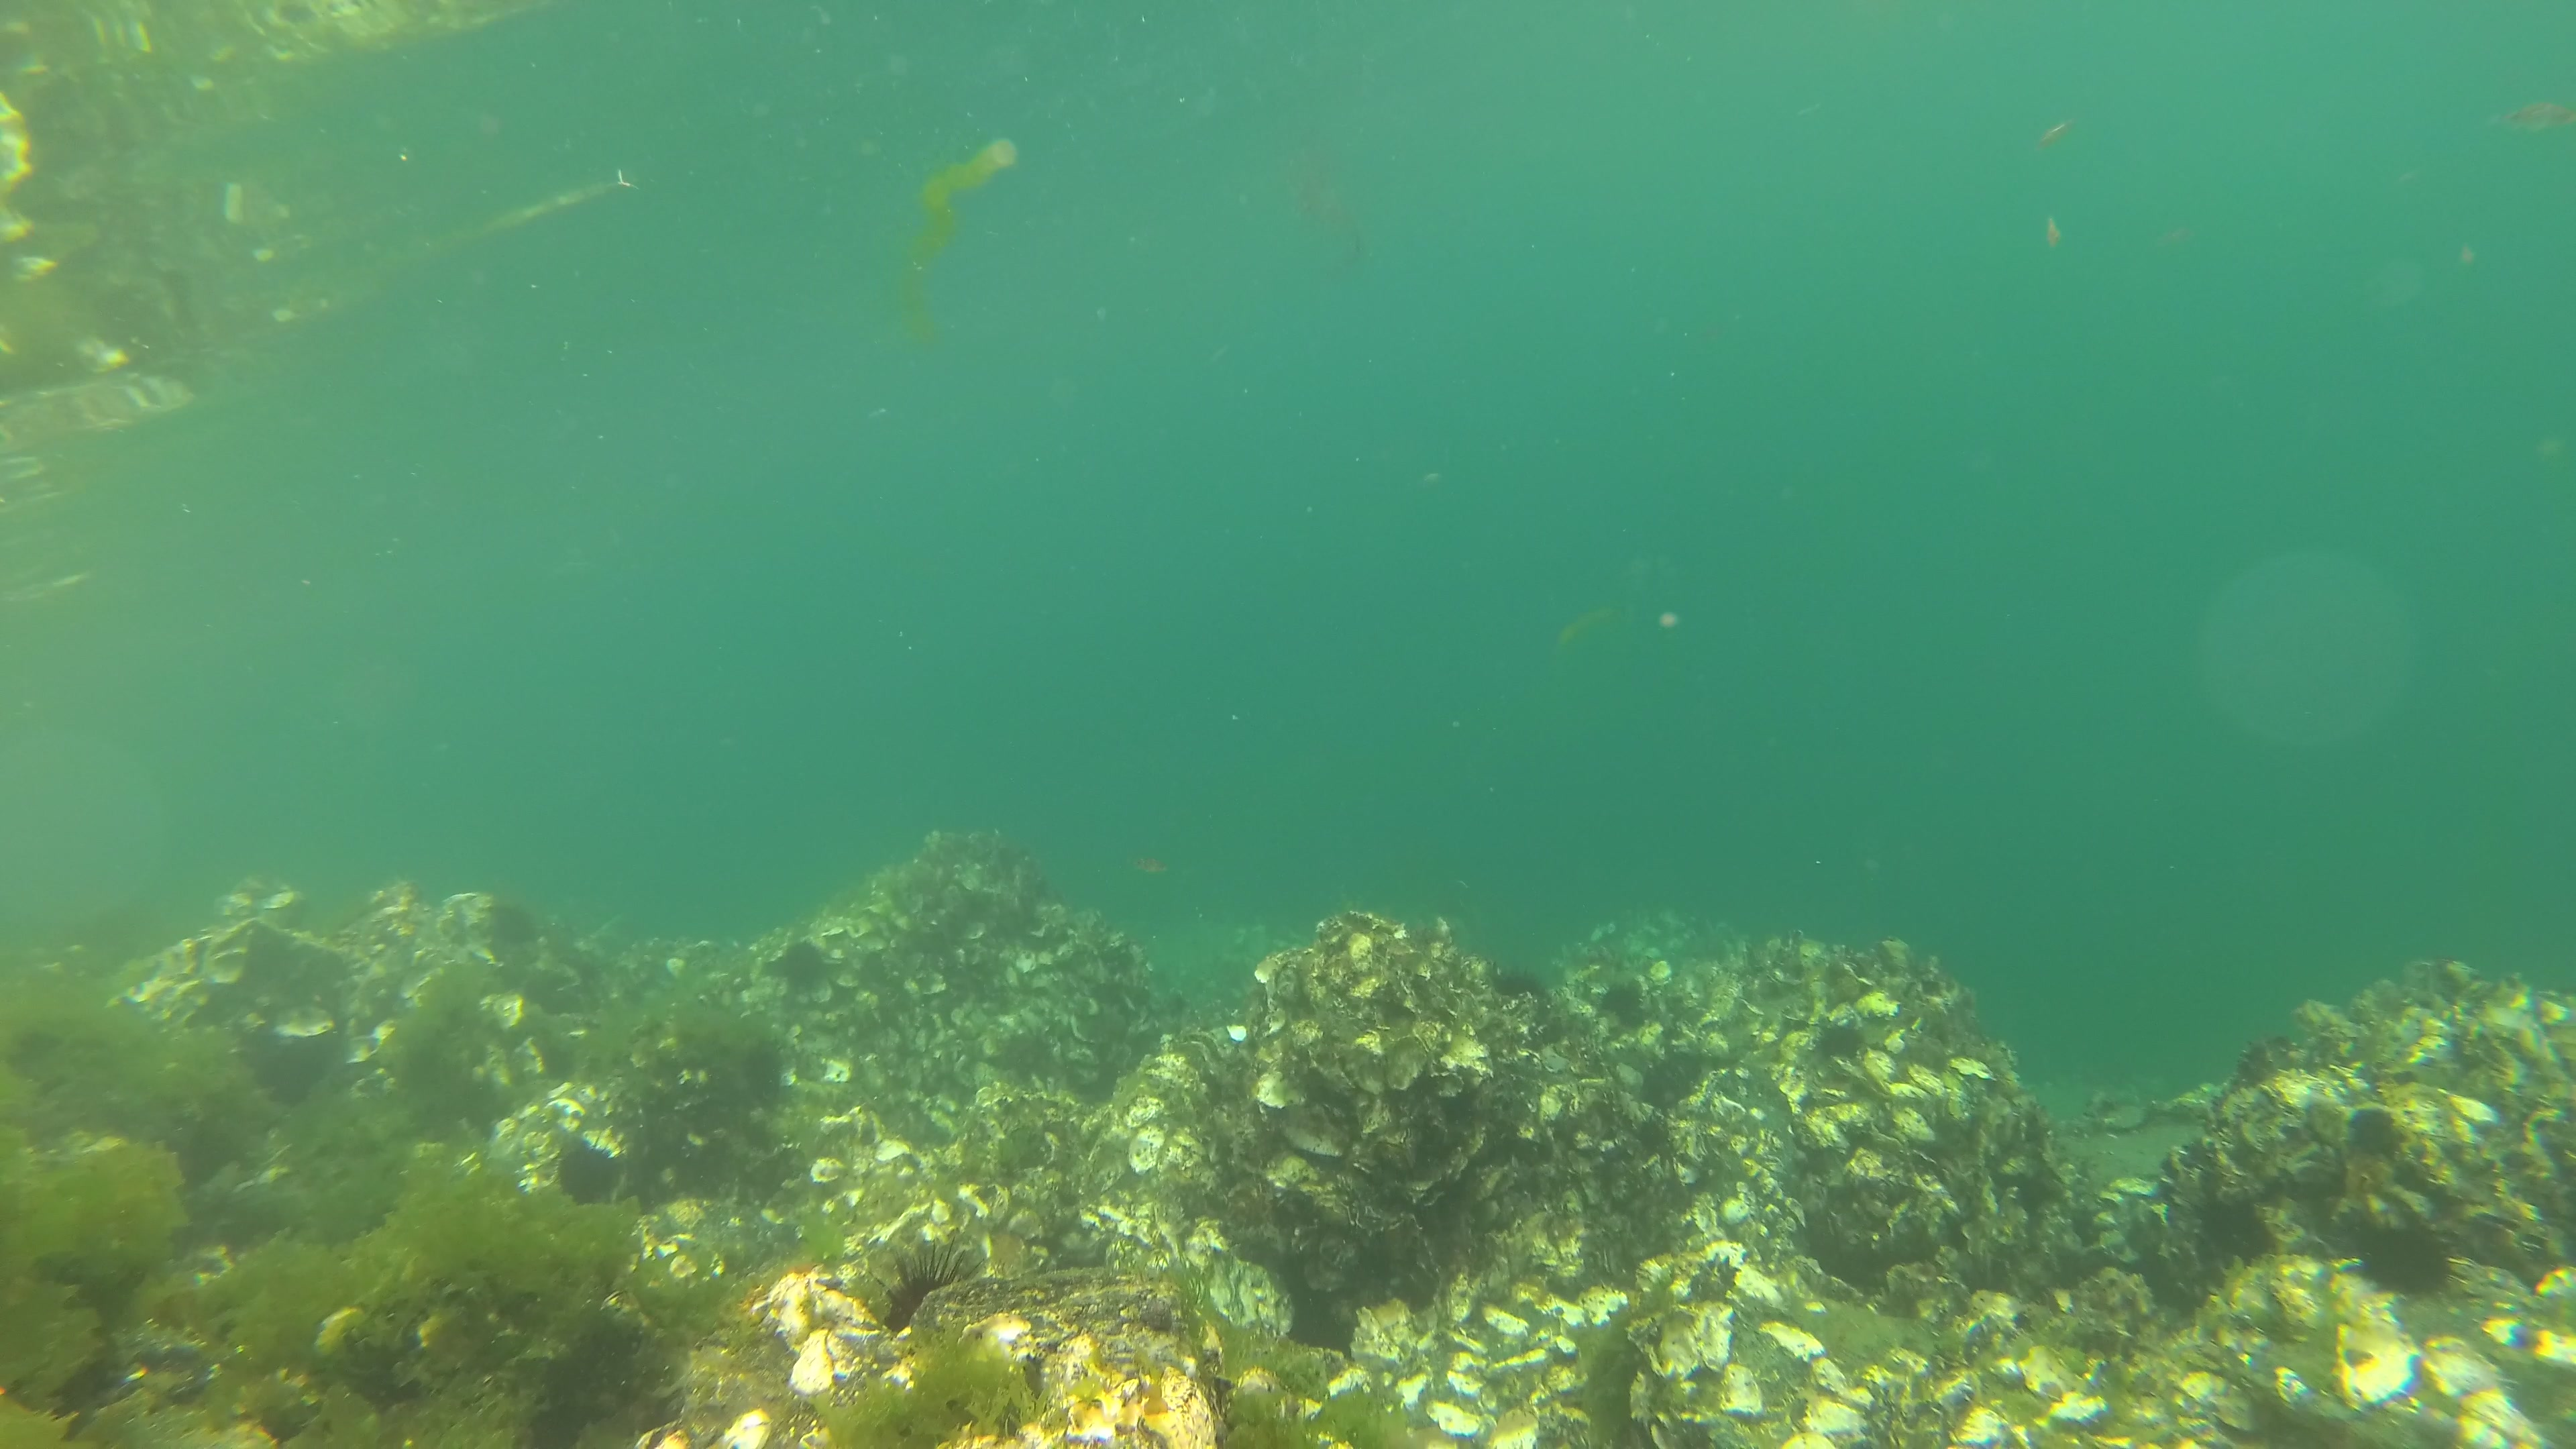echinus: (860, 1240, 989, 1332), (2351, 1221, 2459, 1300), (545, 1131, 632, 1212), (2181, 1191, 2273, 1265), (777, 936, 828, 991), (1491, 962, 1550, 1005), (1812, 1019, 1868, 1062), (1587, 980, 1645, 1021)
